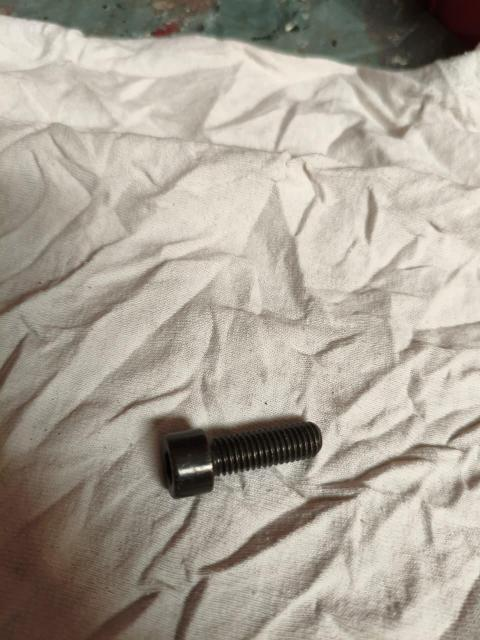Metal: (162, 410, 333, 498)
